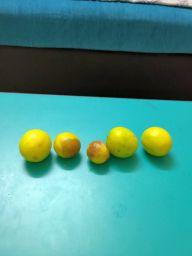lemon: (17, 129, 51, 163), (106, 127, 139, 158), (141, 126, 172, 157), (53, 132, 80, 159), (86, 141, 109, 163)
